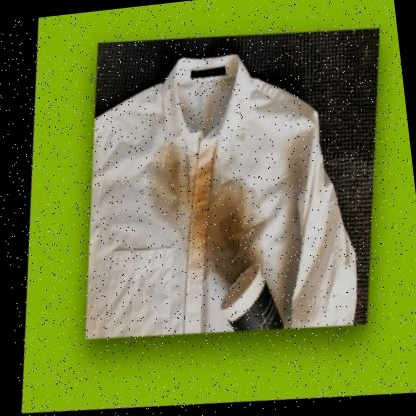coffee: (206, 199, 253, 272), (154, 168, 204, 216)
